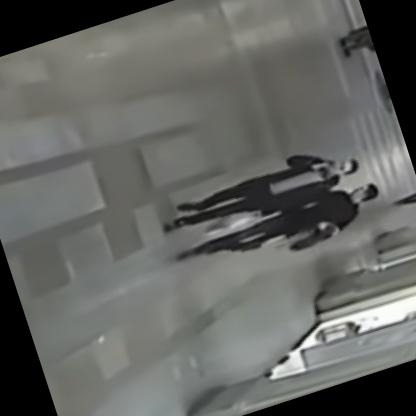Human Body: (172, 174, 390, 290), (156, 137, 362, 246)
